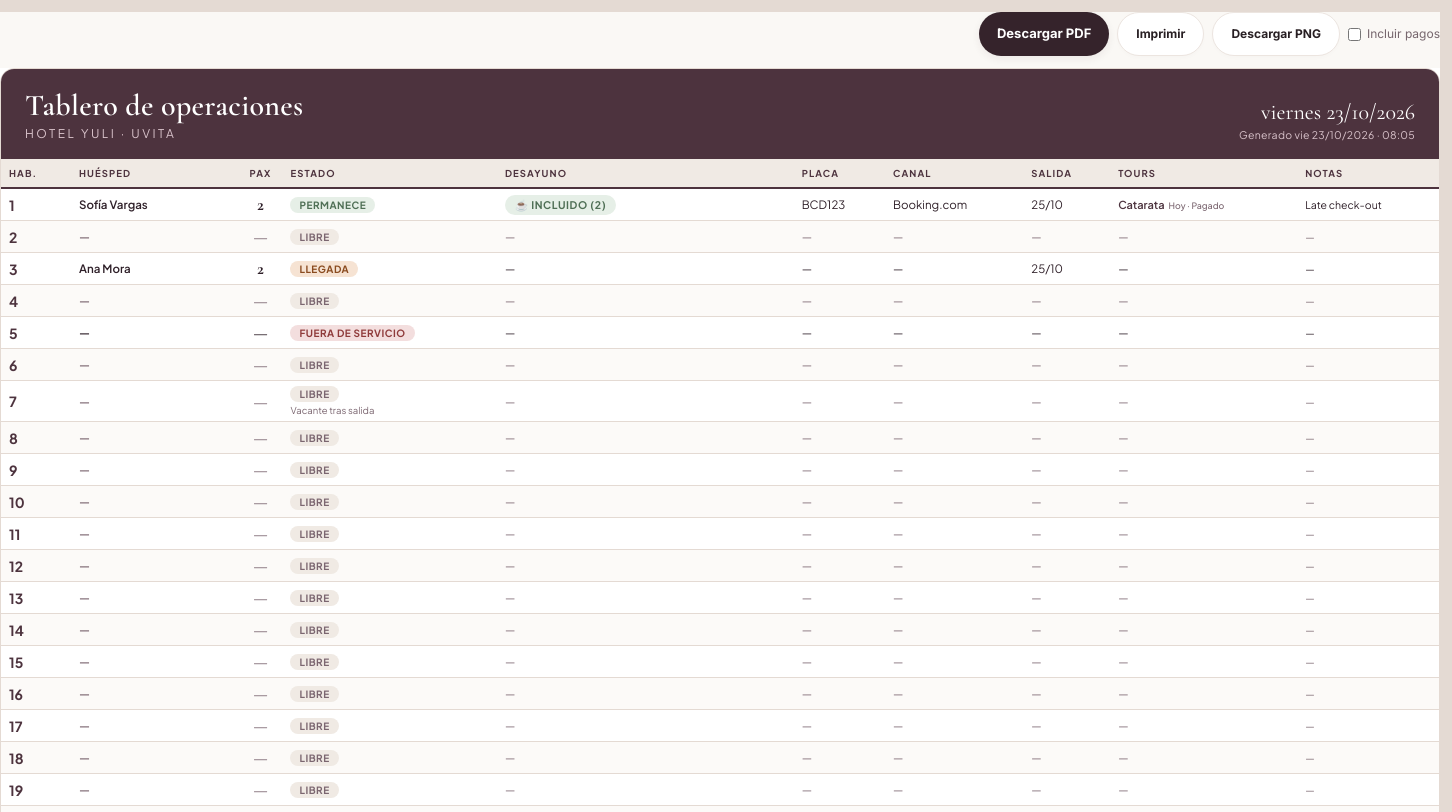
Test case: Room board print actions › 'Incluir pagos' starts off and adds Pago/Saldo to the sheet when ticked
This screenshot has width=1452, height=812.
Expected: the column heading "Saldo" is not shown
Click the checkbox labelled "Incluir pagos" at [1354, 34], box [1348,28,1361,40]
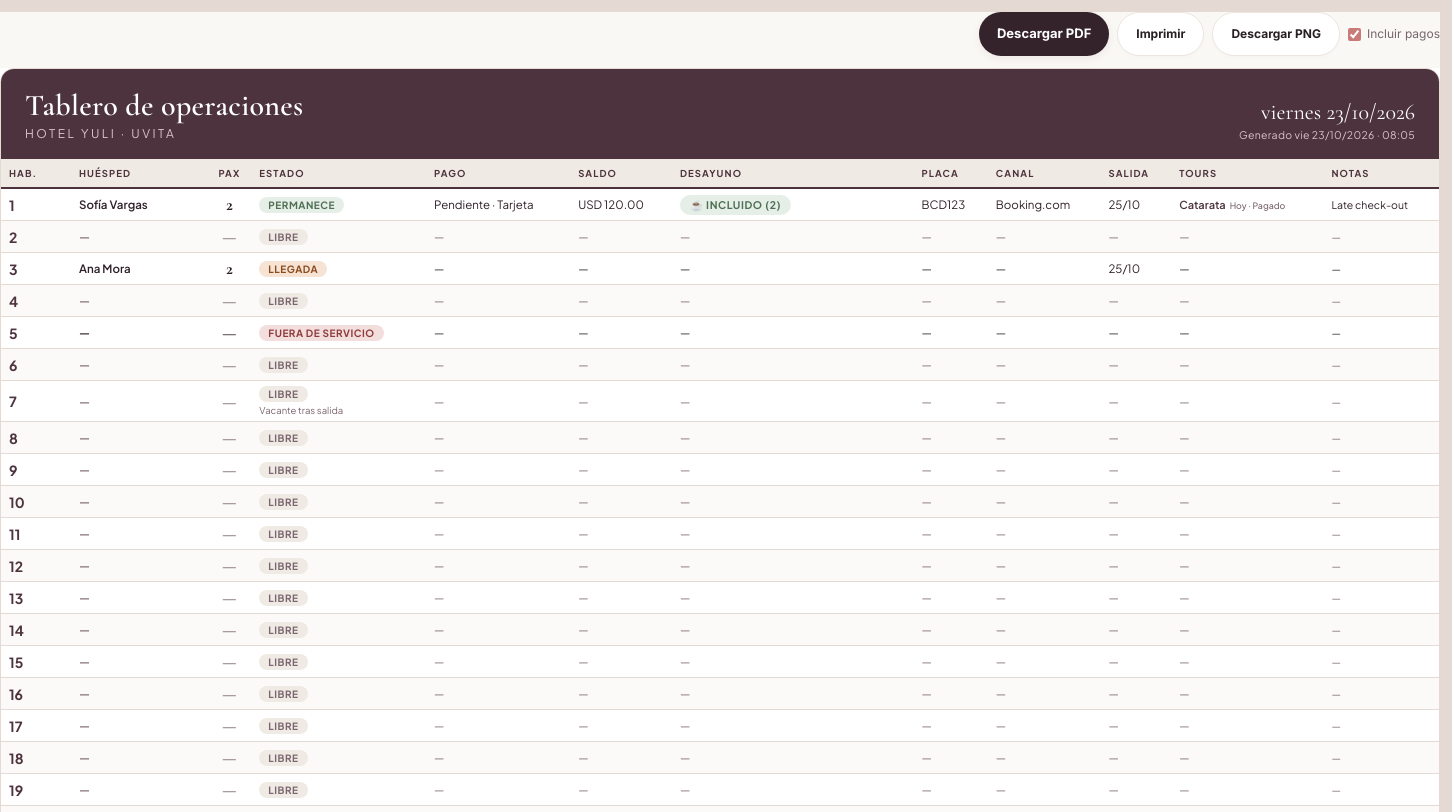
Now the column heading "Pago" is shown, box [426,159,570,188]
Now the column heading "Saldo" is shown, box [570,159,672,188]
